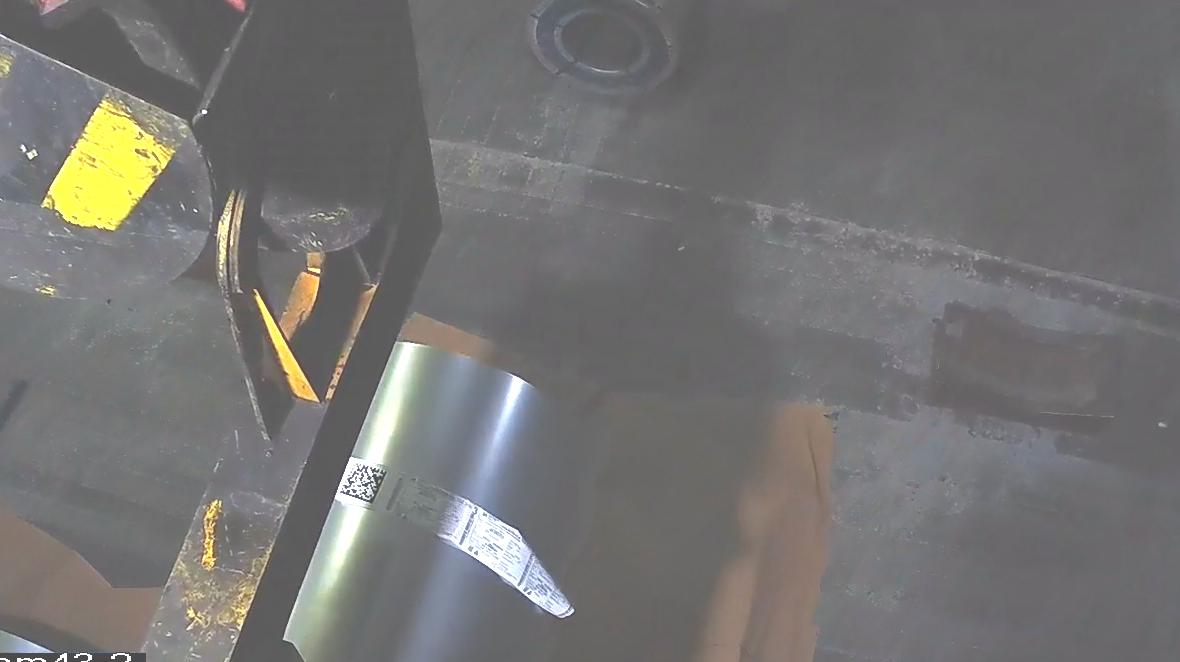data matrix: (339, 459, 390, 508)
